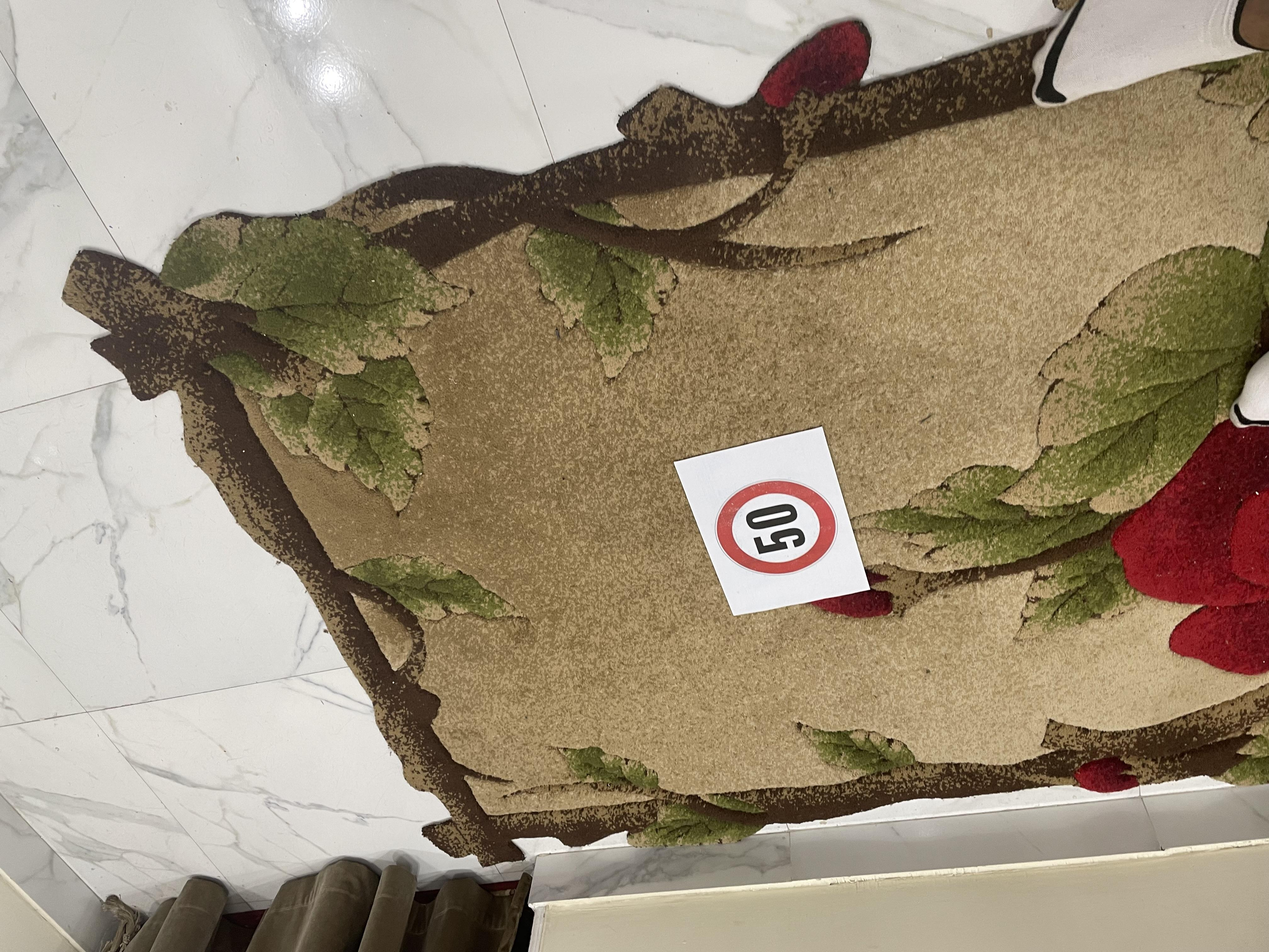50-Speed: (429, 377, 558, 472)
